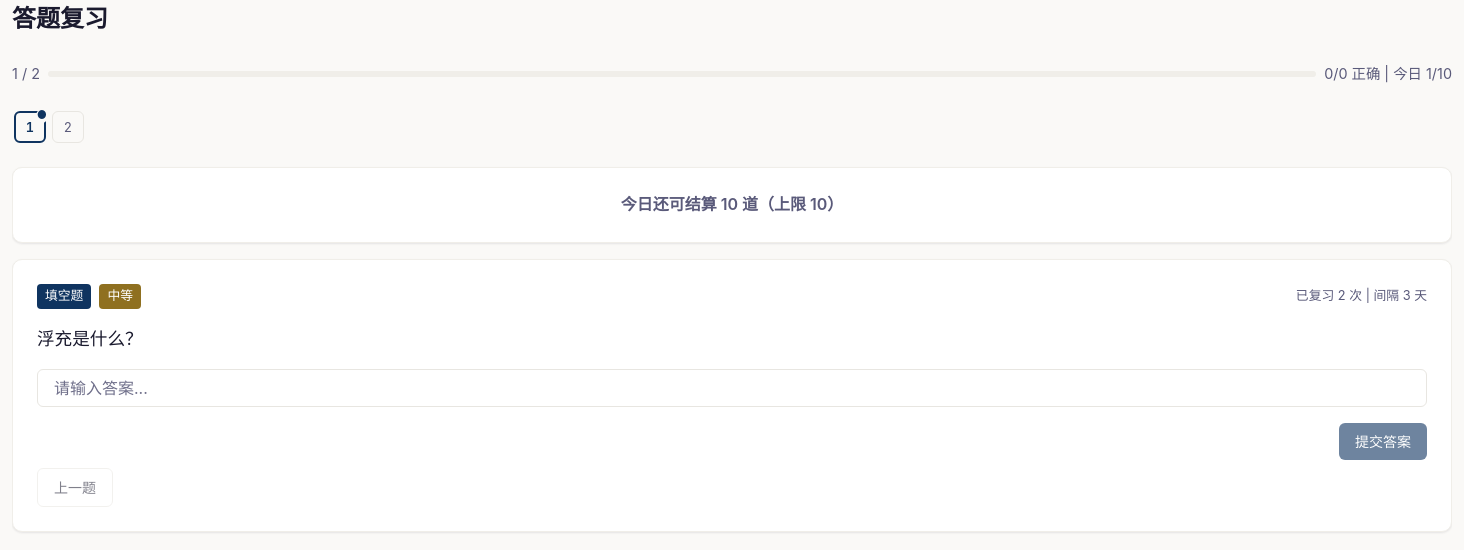
刷题导航（想法 8） › ★ 点题号能跳到那一题，且「上一题」随之可用
Check: the text "浮充是什么？" is shown, box [37,328,143,348]
Click the button named "跳到第 2 题，未作答" at [68, 127], box [52,111,84,143]
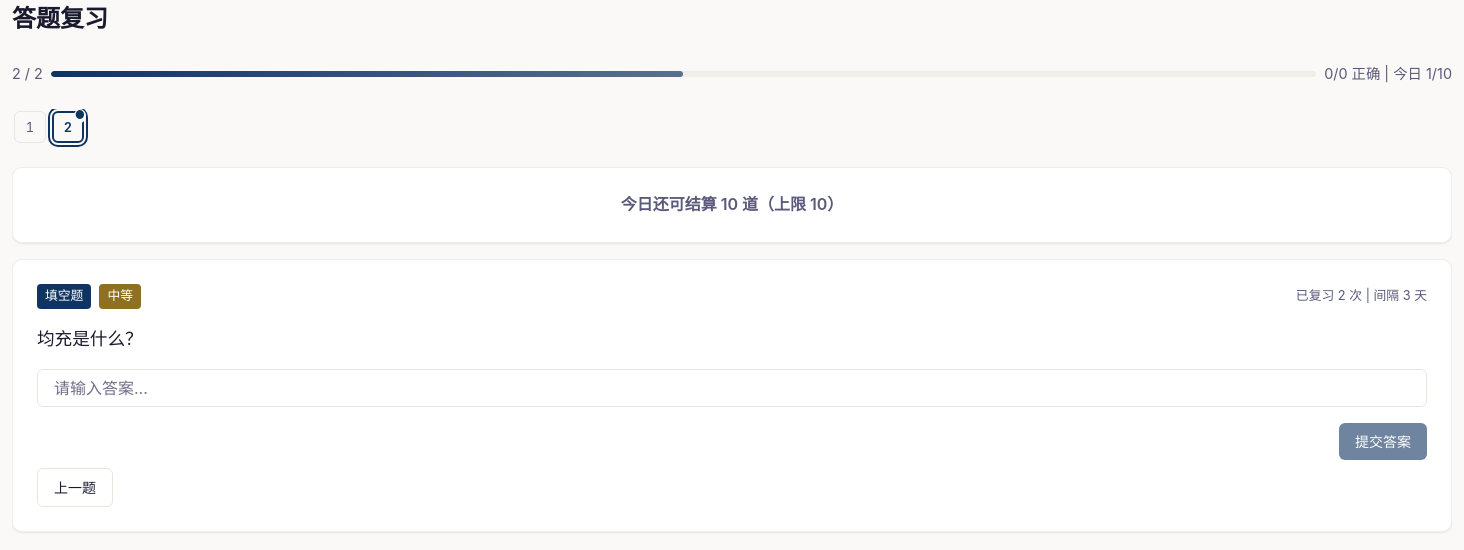
Check: the text "均充是什么？" is shown, box [37,328,143,348]
Check: the text "2 / 2" is shown, box [12,62,43,85]
Check: the button "上一题" is enabled, box [37,468,113,507]
